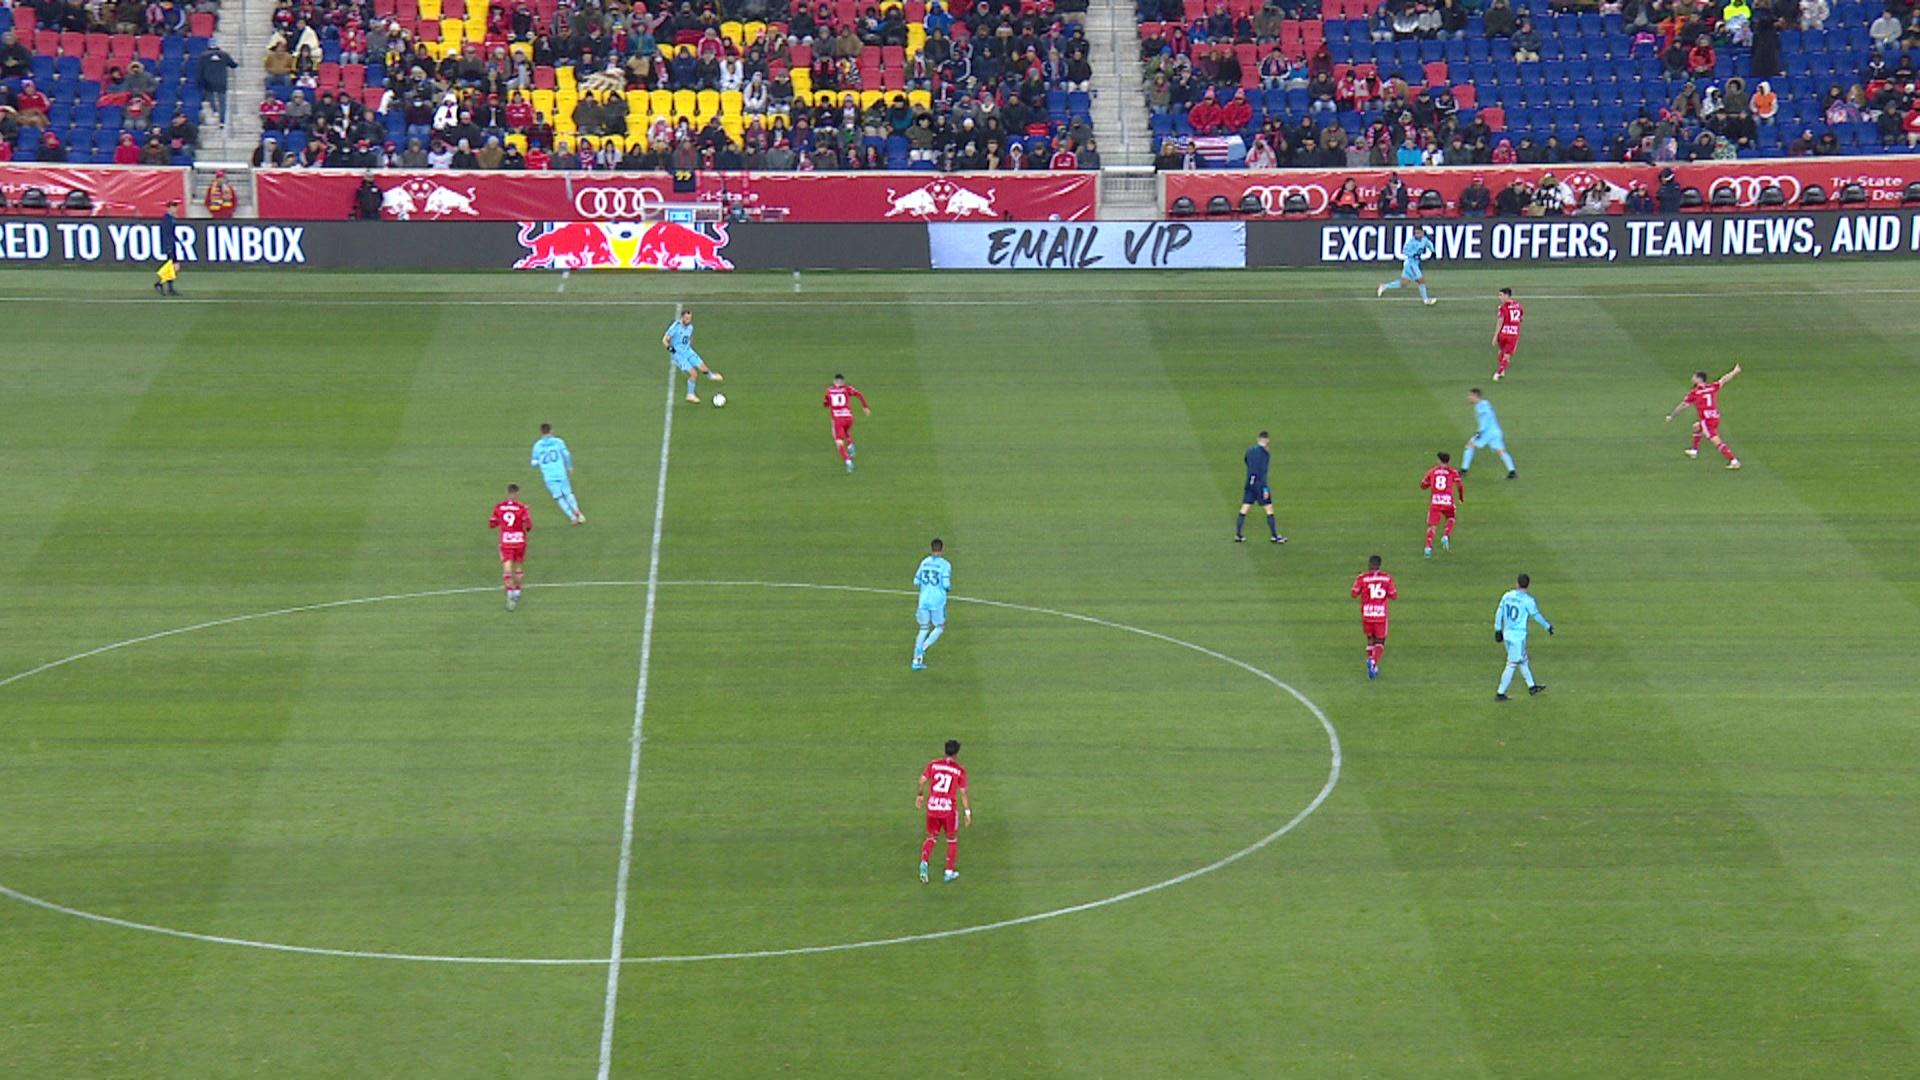football: (713, 392, 727, 408)
